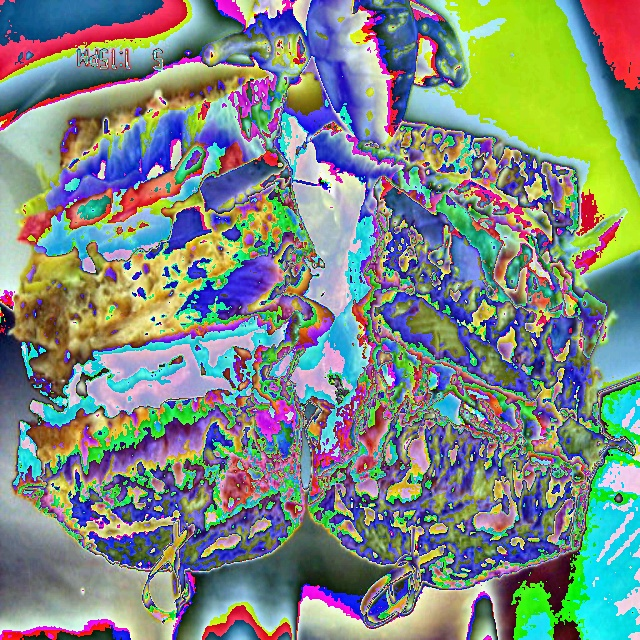background: (5, 0, 637, 592)
